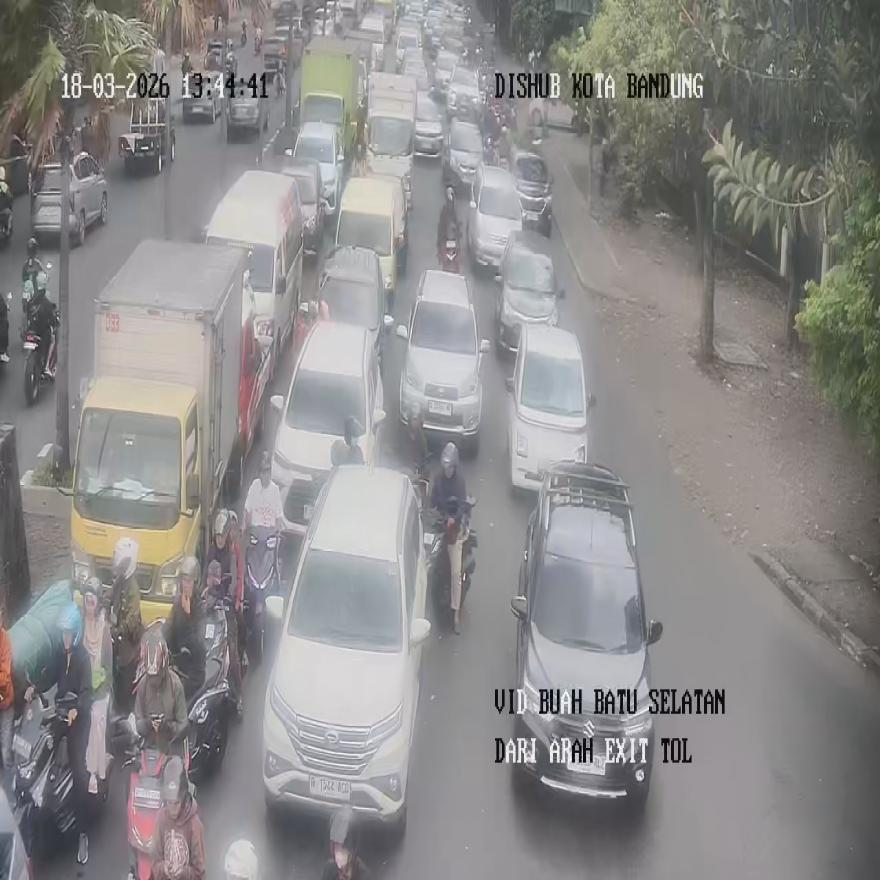Mobil: (261, 464, 431, 836), (511, 460, 662, 806), (268, 318, 386, 539), (398, 268, 490, 448), (505, 320, 595, 490), (316, 243, 394, 374), (494, 231, 564, 356), (30, 149, 106, 246), (468, 163, 523, 270)
Motor: (12, 688, 110, 862), (124, 714, 190, 880), (184, 599, 236, 781), (241, 528, 279, 667), (441, 495, 476, 632), (320, 805, 370, 879), (22, 300, 57, 404), (438, 226, 460, 274), (0, 179, 12, 245), (0, 293, 10, 362)
Truk menengah: (69, 238, 246, 624)
